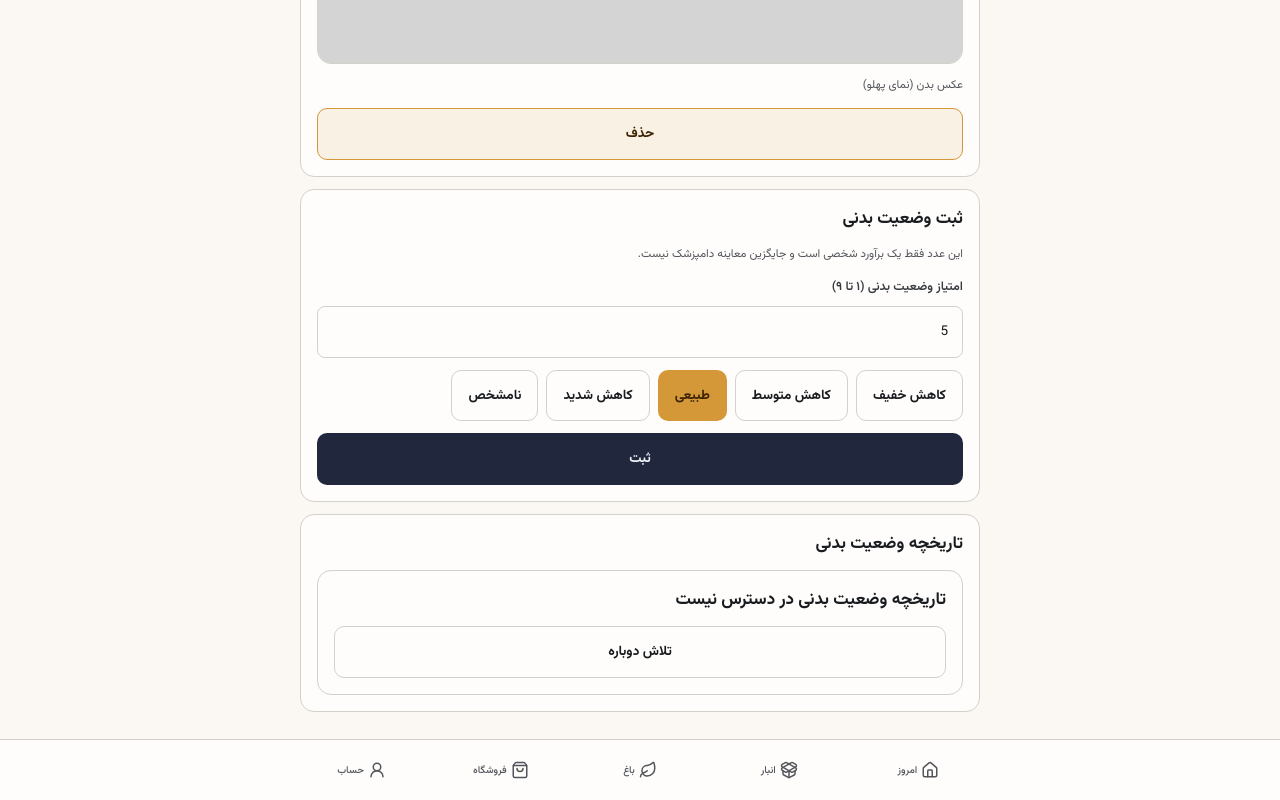
Test: PetAssets › shows a distinct error state with retry, not a silent blank card, when the body-assessment history fails to load
(page scrolled)
Expected: the text "تاریخچه وضعیت بدنی در دسترس نیست" is shown, [675,587,946,613]
Click the button "تلاش دوباره".
click(640, 652)  # box [334,626,946,678]
(page scrolled)
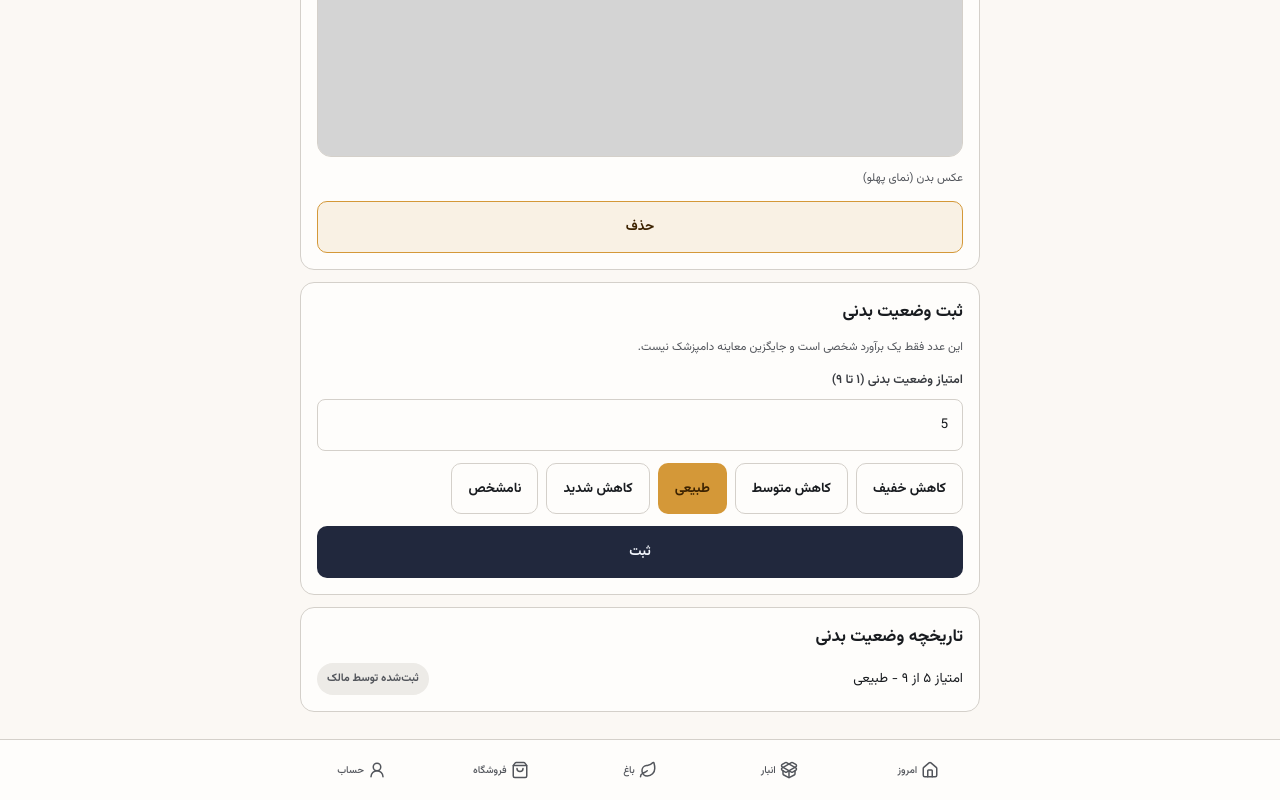
Expected: the text "ثبت‌شده توسط مالک" is shown, [317,663,429,695]
